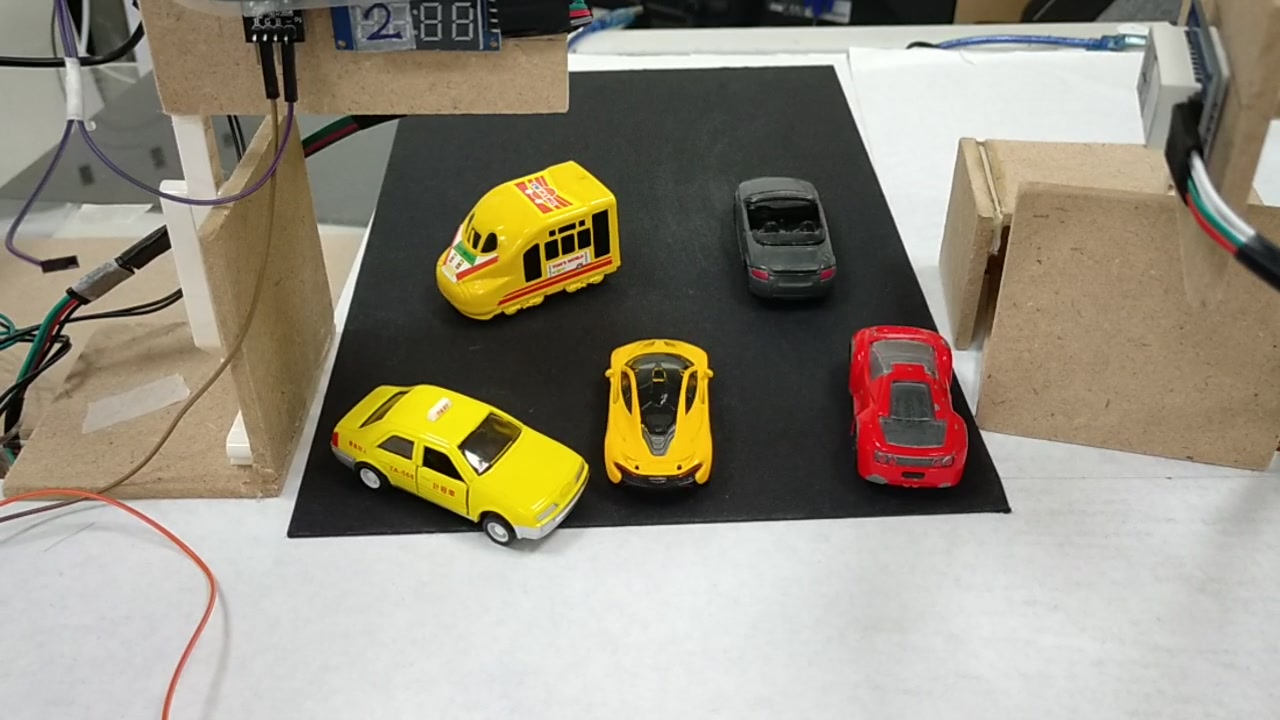car: (334, 388, 584, 546), (852, 322, 967, 500), (605, 338, 711, 487), (729, 179, 839, 297)
